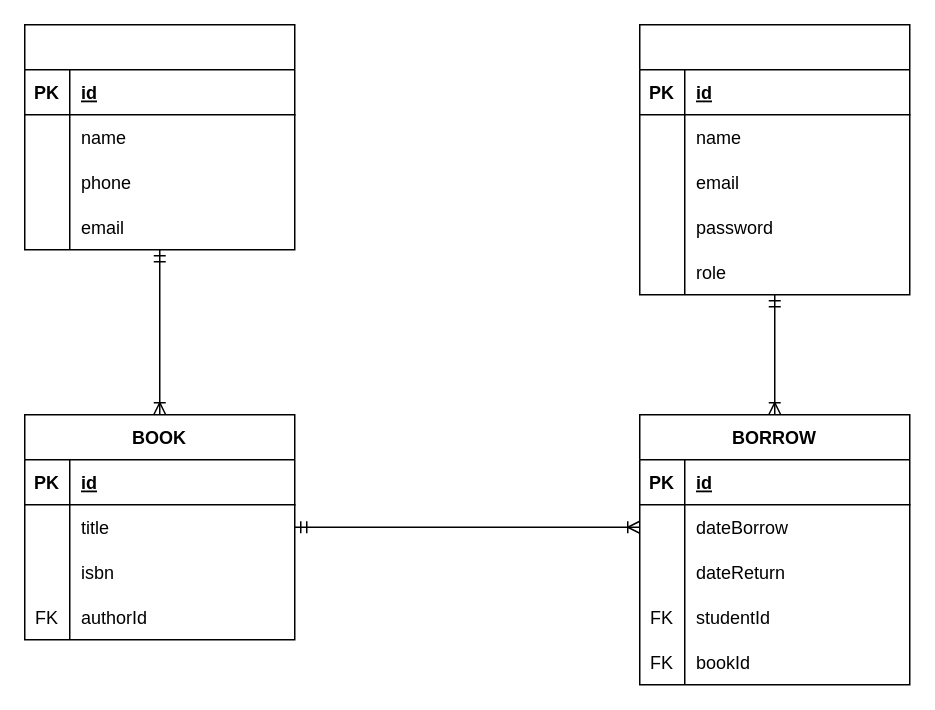
This 935x710 diagram has some shape labels left out. The box of each missing label's shape, as (x1, y1, x2, y2) in pixels:
AUTHOR: (23, 23, 295, 250)
USER: (638, 23, 910, 295)
